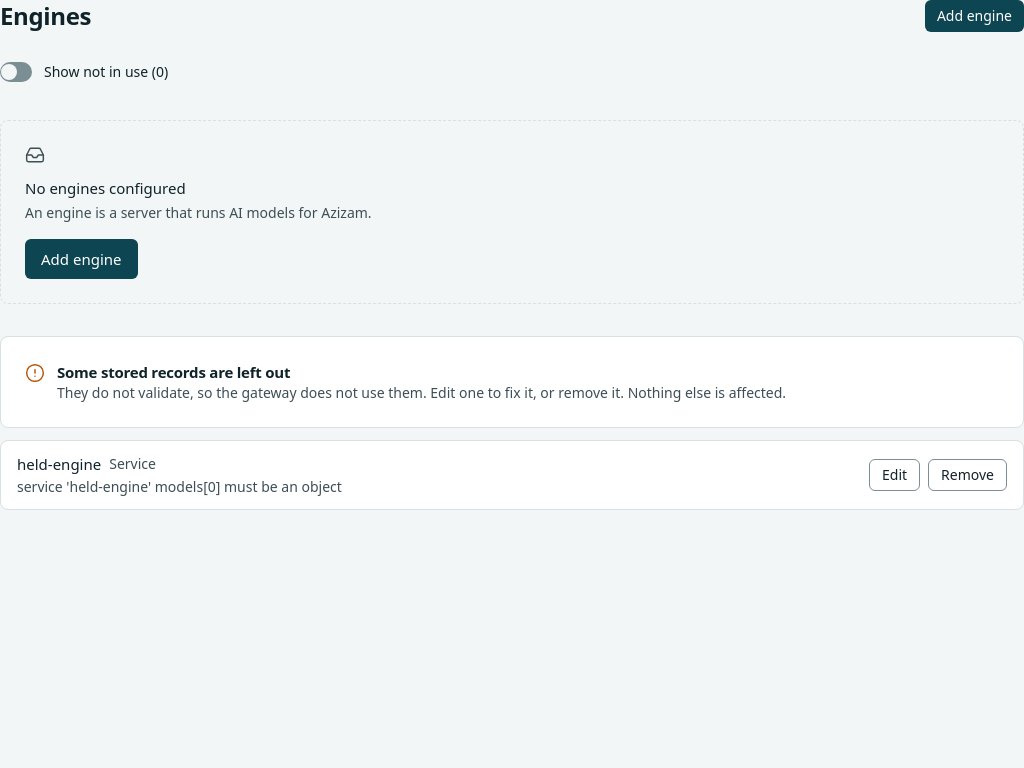
Test: records the registry leaves out › shows the reason the server refused an edit and keeps the editor open
Click the button with aria-label "Edit held-engine" at [895, 475], box [869,459,920,491]
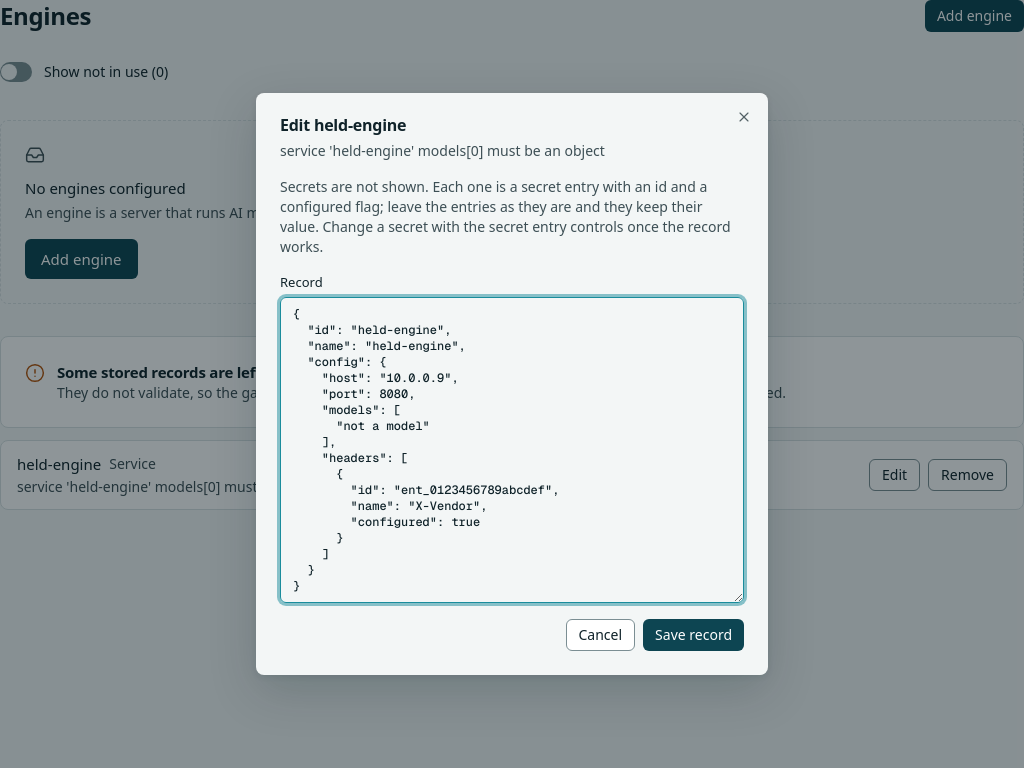
Click the button "Save record" at [694, 635], box [643,619,744,651]
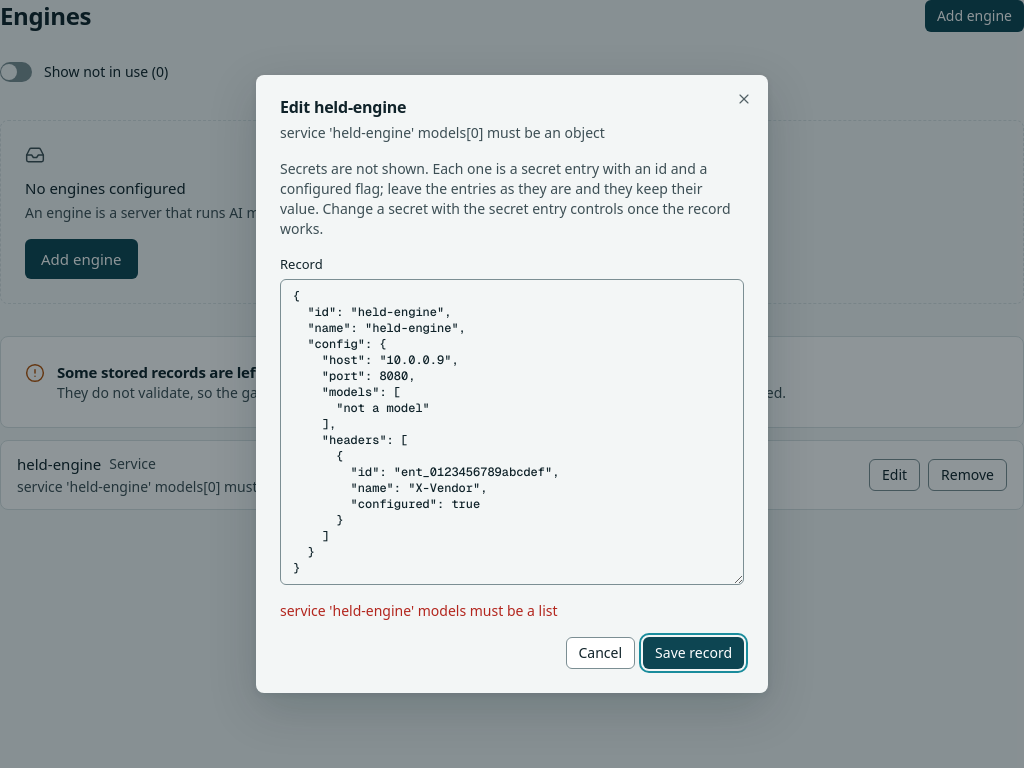
Expected: the dialog is shown, [256,75,768,693]
Expected: the text "service 'held-engine' models must be a list" is shown, [280,601,558,620]
